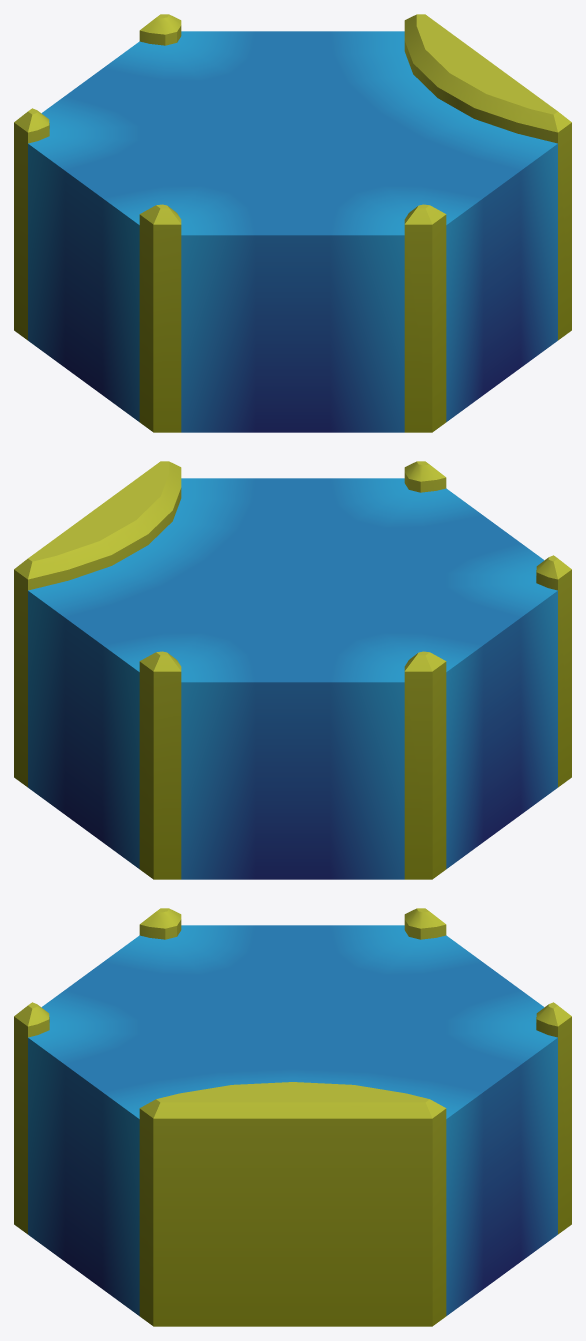
The model's file is hex_river_K.glb.
3 views of the same model, one above another, from view 1: azimuth 30°, elevation 25°; view 2: azimuth 150°, elevation 25°; view 3: azimuth 270°, elevation 25° (orthographic).
Visible parts, largest first — view 1: hex_river_K; view 2: hex_river_K; view 3: hex_river_K.
Boxes of the visible parts, bbox=[...] form: hex_river_K: bbox=[14, 14, 571, 432]; hex_river_K: bbox=[14, 461, 571, 879]; hex_river_K: bbox=[14, 908, 571, 1326].
Bounding box in the file's own units: 2 × 1 × 2.31.
1 material, 1 textured.
